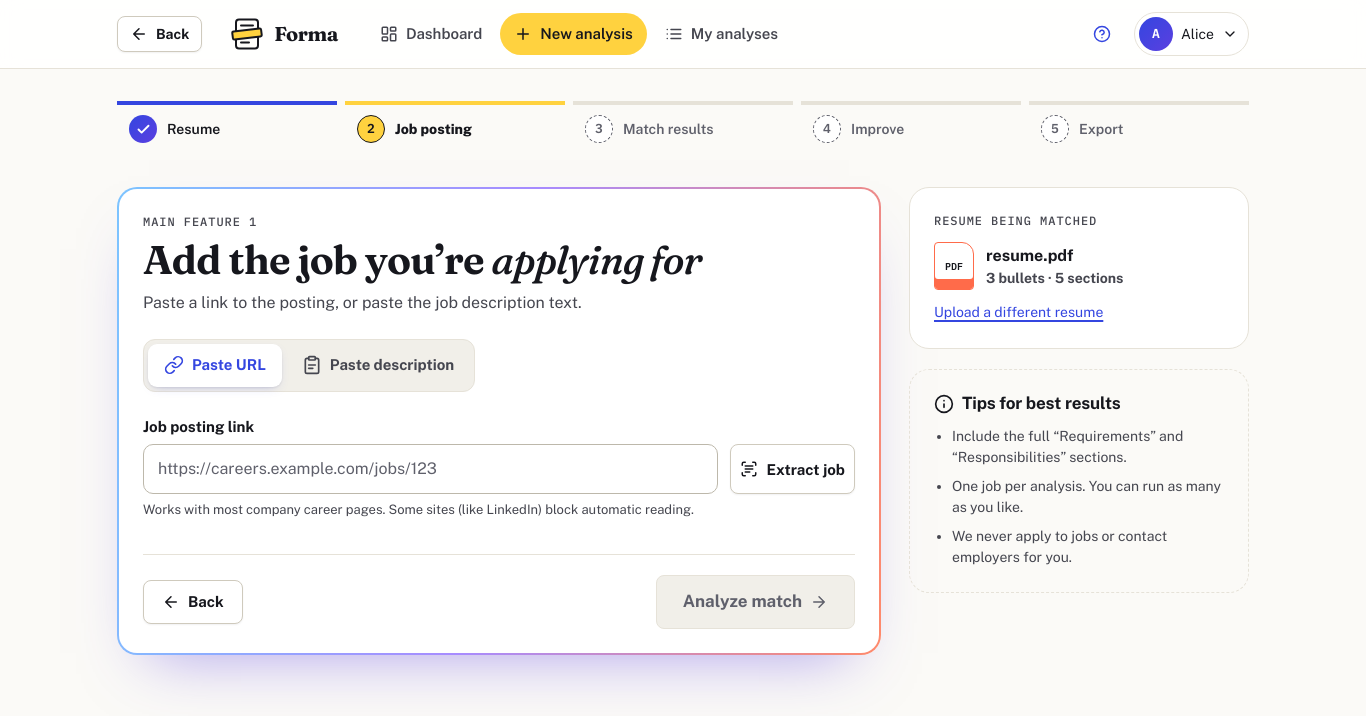
spam-click protection on the job page › a description under 50 characters shows a "too short" error and sends nothing (TESTING.md 3.5)
expect the text "resume.pdf" is shown: met, box [986,246,1073,264]
Click the tab "Paste description" at [378, 365], box [286,344,470,386]
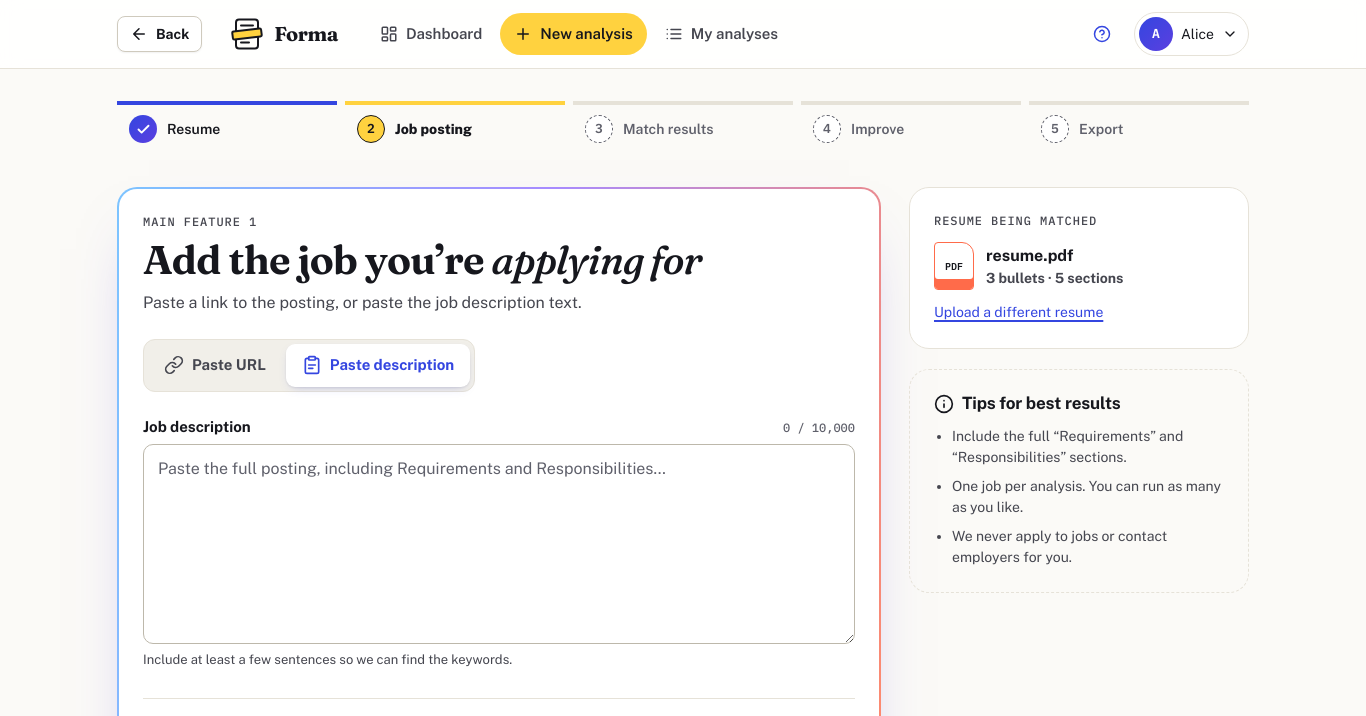
Replace the text in the text box labelled "Job description 0 / 10,000" with "Need a dev with C++ and Python skills, apply now!" at [499, 544], box [143,444,855,644]
(page scrolled)
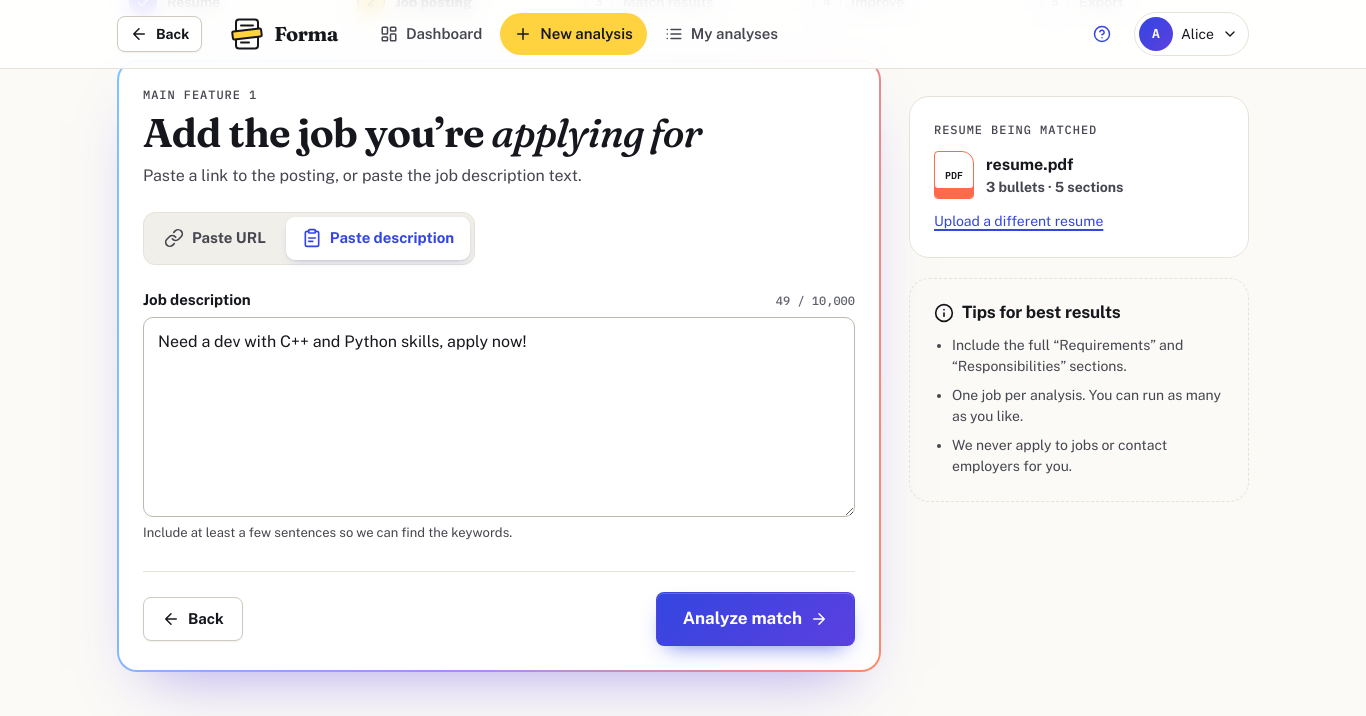
Click the button "Analyze match" at [755, 618], box [656,592,855,646]
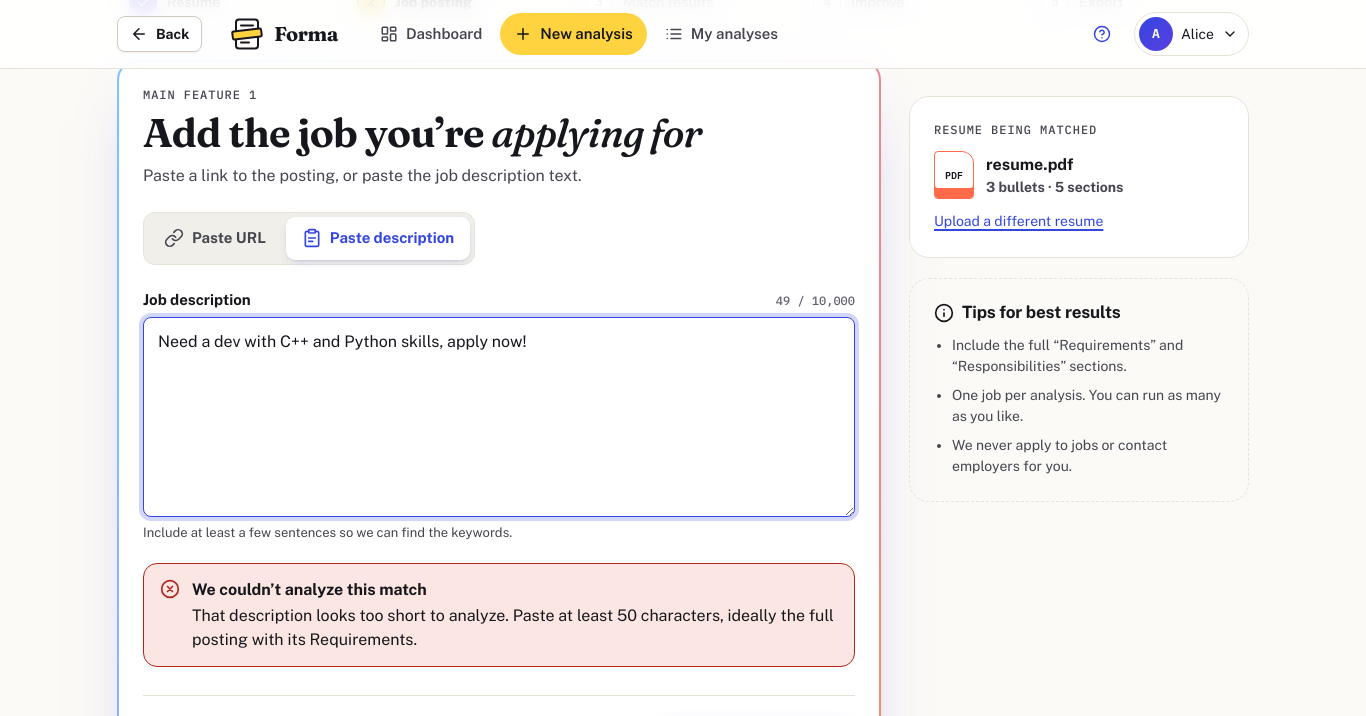
expect the message shows "too short": met, box [192,606,834,648]
